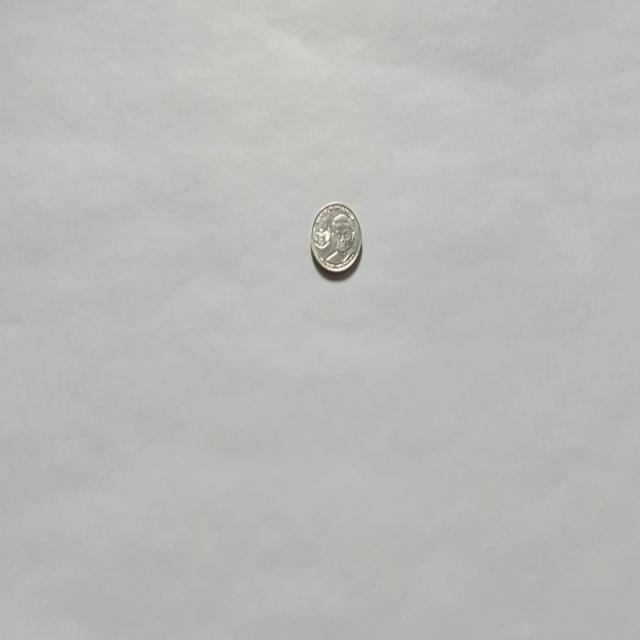seribu rupiah koin: (310, 200, 362, 276)
